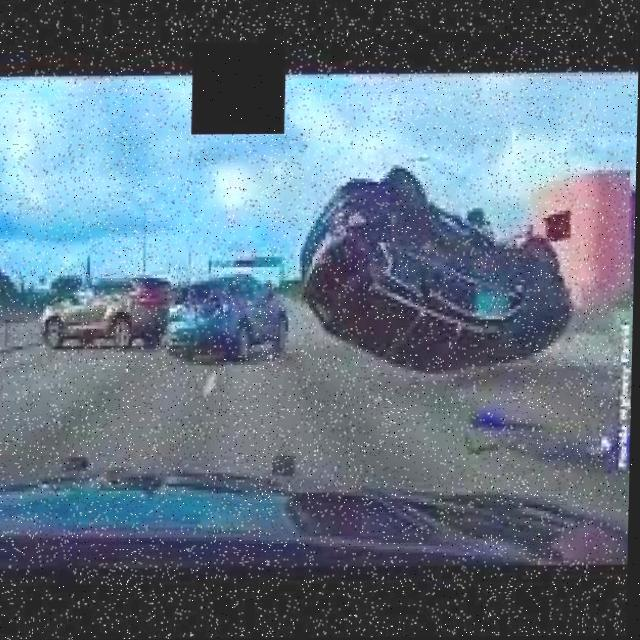single accident: (243, 162, 640, 457)
